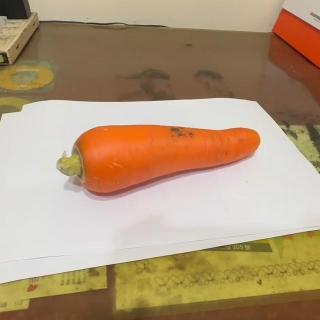carrot: (52, 122, 263, 194)
